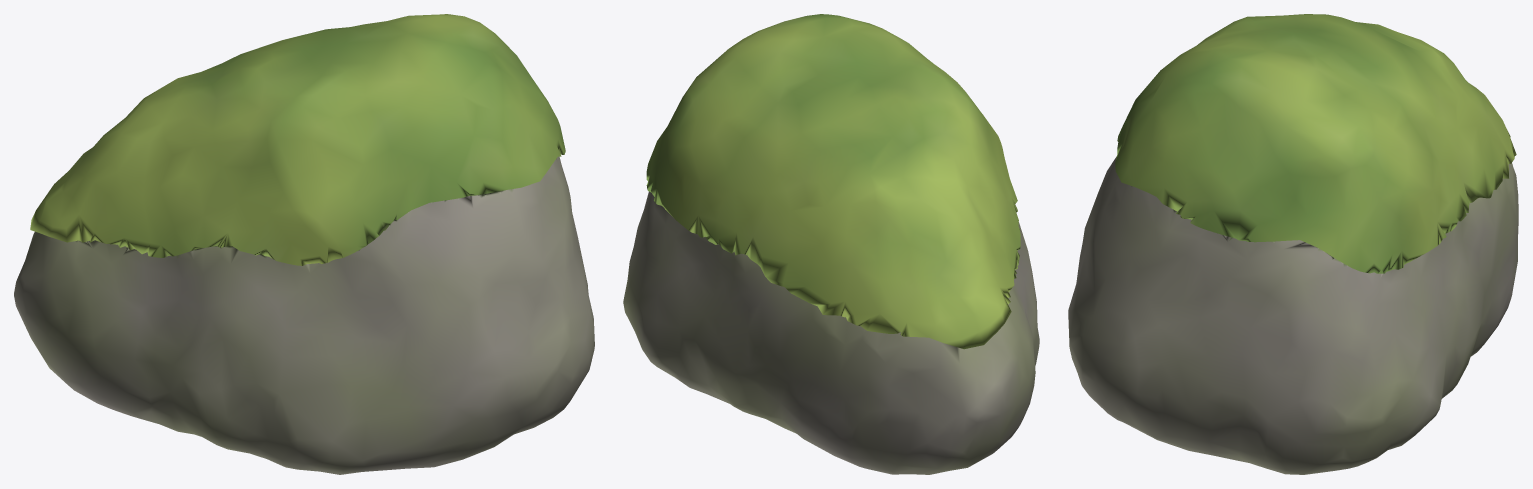
Rendered from rock1.glb.
The picture shows the model from 3 angles, left to right: view 1: azimuth 30°, elevation 25°; view 2: azimuth 150°, elevation 25°; view 3: azimuth 270°, elevation 25°; orthographic projection. The views are drawn at different scales.
Parts seen in each view (by area): view 1: body; view 2: body; view 3: body.
Part boxes in pixels (x1,y1,x2,y2): body: (14,14,594,474); body: (623,14,1039,474); body: (1068,14,1518,474).
Bounding box in the file's own units: 1.61 × 1.23 × 1.36.
